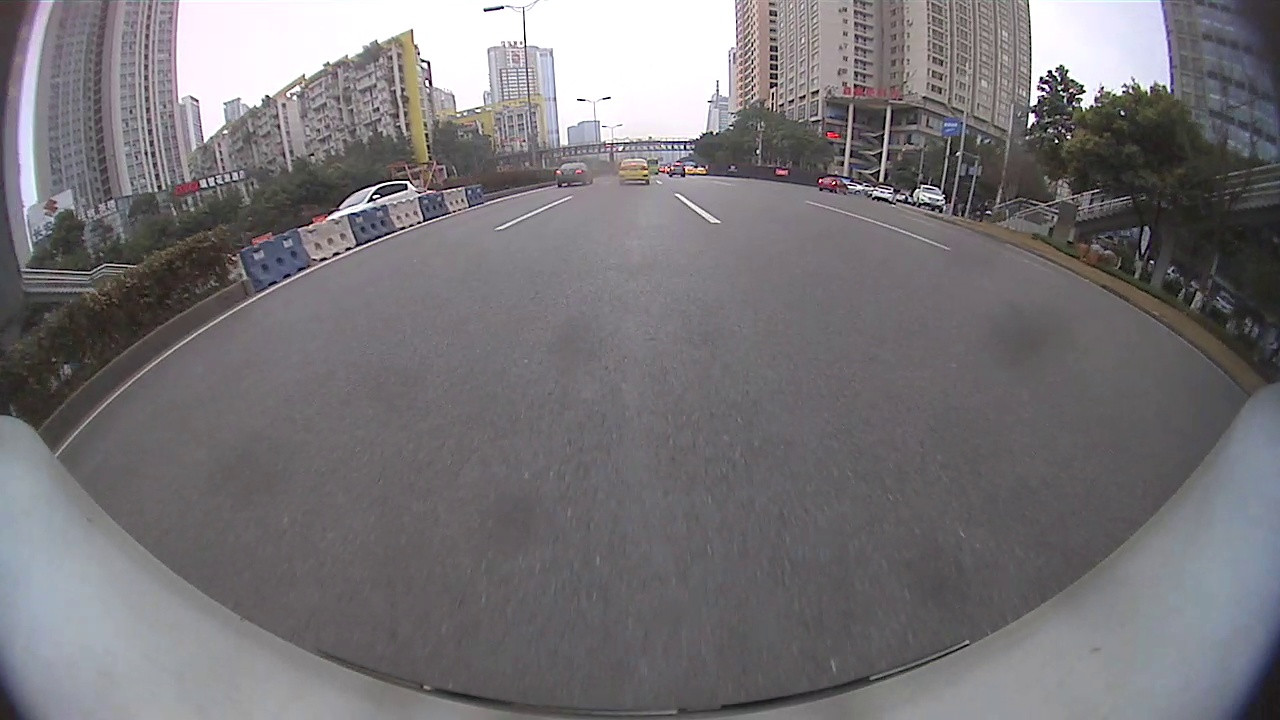car: (327, 180, 417, 221), (555, 161, 591, 188), (617, 158, 651, 186), (913, 185, 946, 213), (818, 175, 849, 194), (871, 183, 896, 202), (667, 163, 687, 179)
